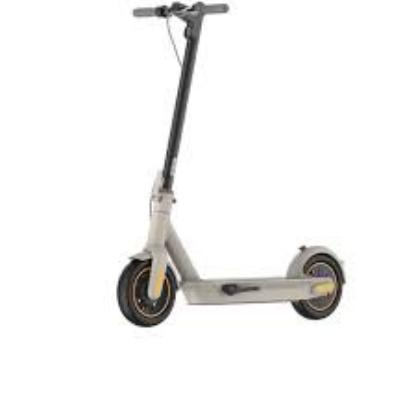bike: (114, 1, 347, 328)
